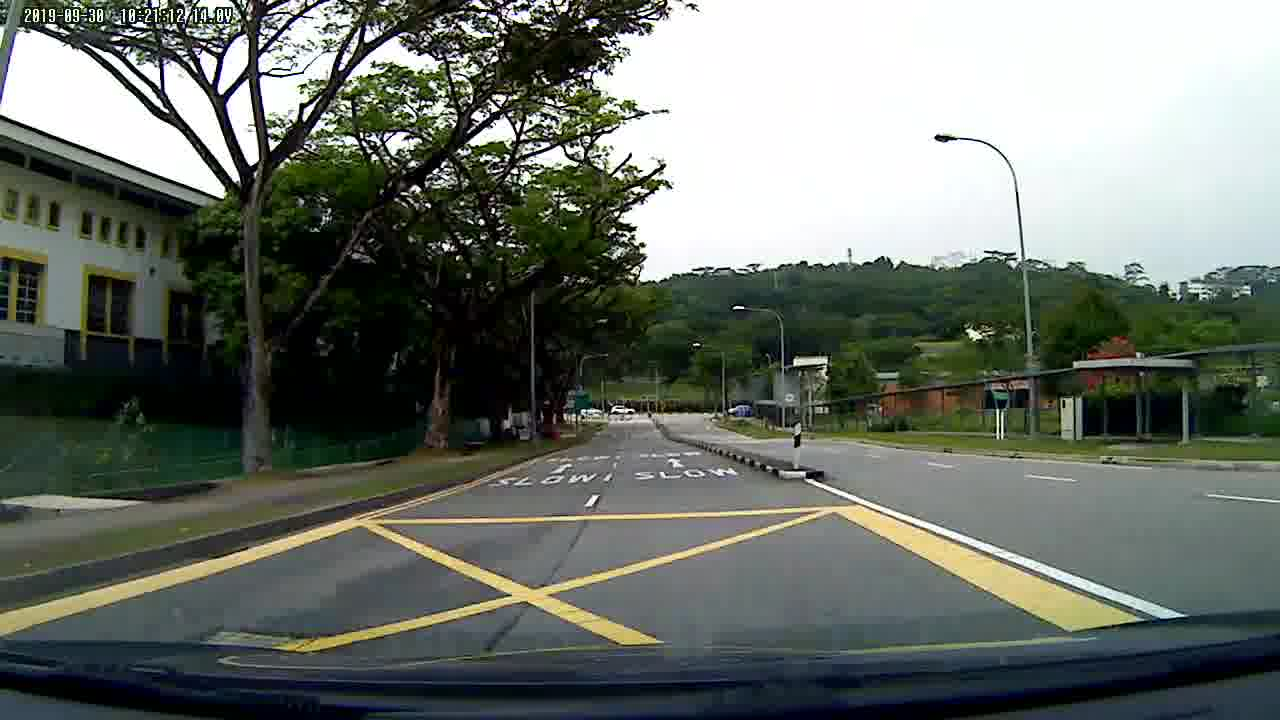car: (611, 403, 638, 416)
